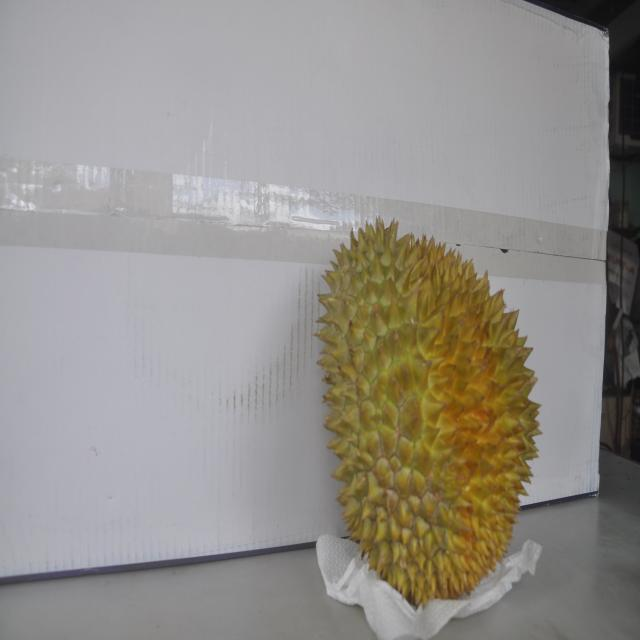mature: (316, 214, 542, 605)
